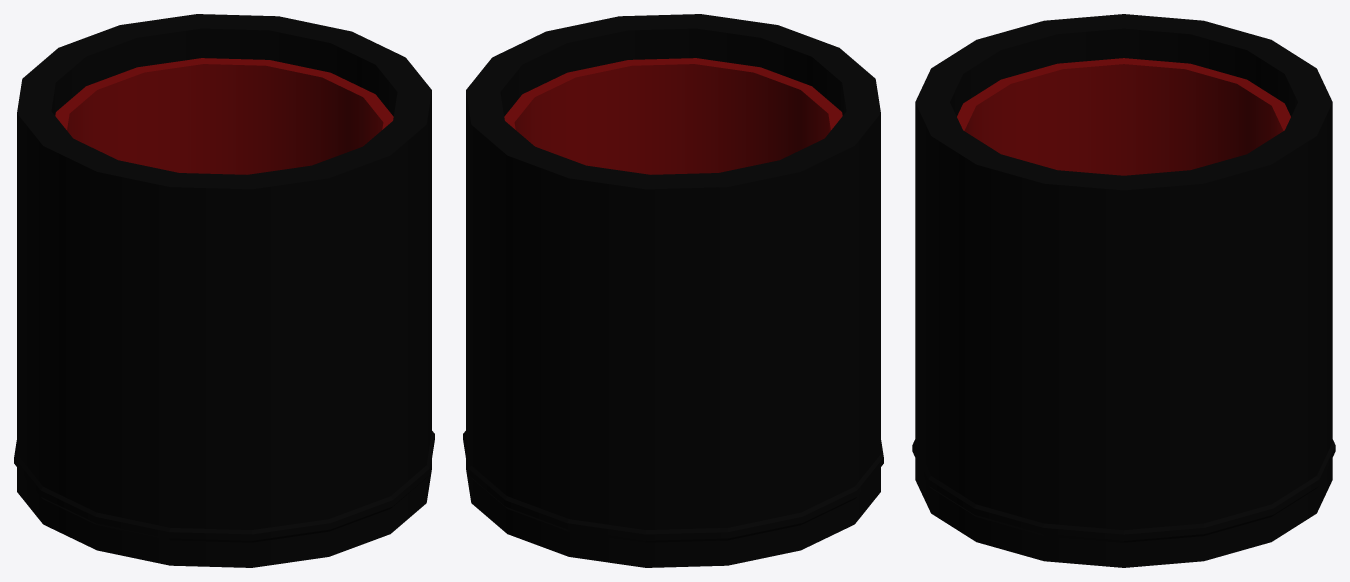
Rendered from dice_cup_low.FBX.
3 views of the same model, side by side, from view 1: azimuth 30°, elevation 25°; view 2: azimuth 150°, elevation 25°; view 3: azimuth 270°, elevation 25° (orthographic).
Visible parts, largest first — view 1: Dice_Cup_Low; view 2: Dice_Cup_Low; view 3: Dice_Cup_Low.
Part boxes in pixels (x1,y1,x2,y2): Dice_Cup_Low: [14, 14, 434, 567]; Dice_Cup_Low: [463, 14, 883, 567]; Dice_Cup_Low: [912, 14, 1335, 567].
Size of the model in its own units: 3.1 by 3.05 by 3.1.
